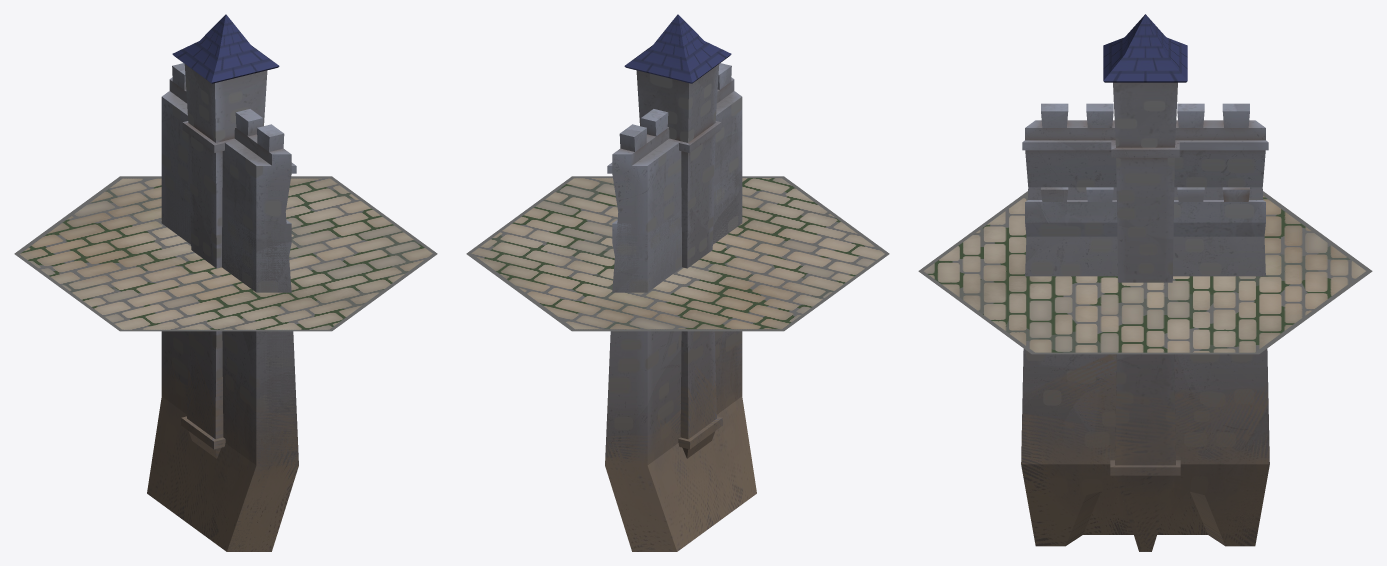
The model's file is Castle_human.gltf.
3 views of the same model, side by side, from view 1: azimuth 30°, elevation 25°; view 2: azimuth 150°, elevation 25°; view 3: azimuth 270°, elevation 25° (orthographic). The views are drawn at different scales.
Visible parts, largest first — view 1: Keep_human_wall_01, Keep_human_floor_01, Keep_human_tower_01, Castle_human_wall_01; view 2: Keep_human_wall_01, Keep_human_floor_01, Keep_human_tower_01, Castle_human_wall_01; view 3: Keep_human_wall_01, Keep_human_floor_01, Keep_human_tower_01, Castle_human_wall_01.
Part boxes in pixels (left/top/right/bottom): Keep_human_wall_01: left=147, top=63, right=298, bottom=551; Keep_human_floor_01: left=14, top=176, right=437, bottom=331; Keep_human_tower_01: left=172, top=14, right=279, bottom=458; Castle_human_wall_01: left=161, top=170, right=298, bottom=551; Keep_human_wall_01: left=605, top=63, right=756, bottom=551; Keep_human_floor_01: left=466, top=176, right=889, bottom=331; Keep_human_tower_01: left=624, top=14, right=731, bottom=458; Castle_human_wall_01: left=612, top=173, right=742, bottom=292; Keep_human_wall_01: left=1021, top=103, right=1269, bottom=546; Keep_human_floor_01: left=918, top=191, right=1372, bottom=354; Keep_human_tower_01: left=1103, top=14, right=1187, bottom=551; Castle_human_wall_01: left=1025, top=187, right=1269, bottom=545.
Bounding box in the file's own units: 8.66 × 13 × 10.
Materials: 5 (5 with a texture image).
